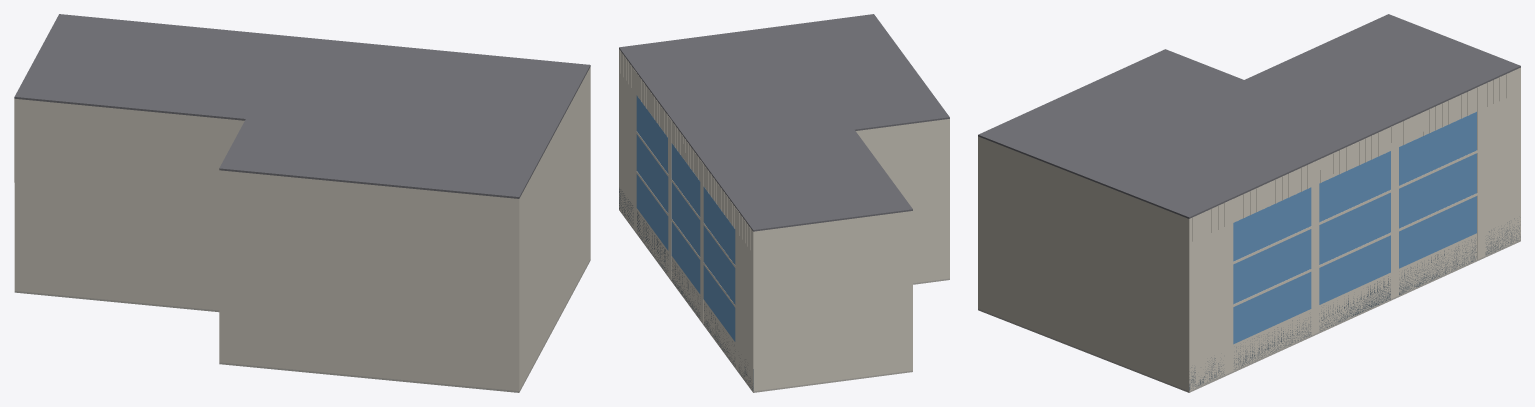
Rendered from city_hall_tier2.glb.
The picture shows the model from 3 angles, left to right: view 1: azimuth 30°, elevation 25°; view 2: azimuth 150°, elevation 25°; view 3: azimuth 270°, elevation 25°; orthographic projection. The views are drawn at different scales.
Visible parts, largest first — view 1: city_hall_walls, city_hall_roof, city_hall_plinth; view 2: city_hall_roof, city_hall_walls, glassbay.002, glassbay, glassbay.001, groundglass, city_hall_plinth, pier_0.12, pier_0.38, pier_0.88, pier_0.62; view 3: city_hall_walls, city_hall_roof, glassbay, glassbay.002, glassbay.001, groundglass, pier_0.12, pier_0.38, pier_0.88, pier_0.62, city_hall_plinth.
Boxes of the visible parts, x1=… form: city_hall_walls: x1=14, y1=67, x2=590, y2=390; city_hall_roof: x1=14, y1=14, x2=590, y2=198; city_hall_plinth: x1=14, y1=259, x2=590, y2=392; city_hall_roof: x1=619, y1=14, x2=949, y2=231; city_hall_walls: x1=619, y1=49, x2=949, y2=391; glassbay.002: x1=703, y1=187, x2=735, y2=341; glassbay: x1=636, y1=95, x2=668, y2=250; glassbay.001: x1=671, y1=143, x2=700, y2=293; groundglass: x1=619, y1=188, x2=753, y2=390; city_hall_plinth: x1=619, y1=209, x2=949, y2=392; pier_0.12: x1=633, y1=69, x2=636, y2=232; pier_0.38: x1=668, y1=116, x2=671, y2=279; pier_0.88: x1=735, y1=208, x2=738, y2=371; pier_0.62: x1=700, y1=161, x2=703, y2=323; city_hall_walls: x1=978, y1=67, x2=1520, y2=391; city_hall_roof: x1=978, y1=14, x2=1520, y2=218; glassbay: x1=1233, y1=187, x2=1311, y2=344; glassbay.002: x1=1399, y1=111, x2=1476, y2=268; glassbay.001: x1=1319, y1=151, x2=1390, y2=304; groundglass: x1=1189, y1=218, x2=1520, y2=390; pier_0.12: x1=1225, y1=199, x2=1233, y2=374; pier_0.38: x1=1311, y1=160, x2=1319, y2=335; pier_0.88: x1=1477, y1=84, x2=1485, y2=259; pier_0.62: x1=1391, y1=123, x2=1398, y2=298; city_hall_plinth: x1=978, y1=240, x2=1520, y2=392.
Bounding box in the file's own units: 81.66 × 32.88 × 92.09.
